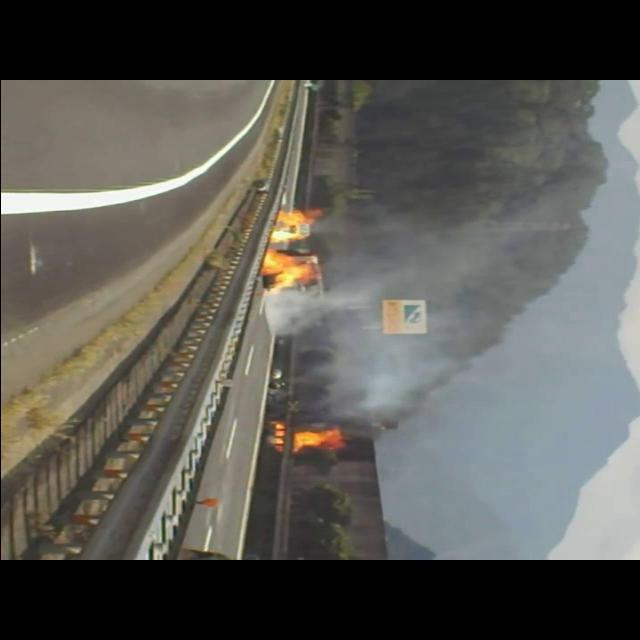Fire: (268, 419, 352, 456), (262, 249, 316, 287), (271, 208, 321, 240)
